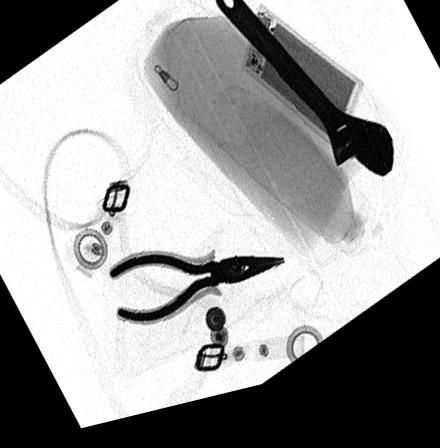Pliers: (110, 261, 284, 329)
Powerbank: (240, 15, 362, 167)
Wrench: (212, 0, 397, 194)
